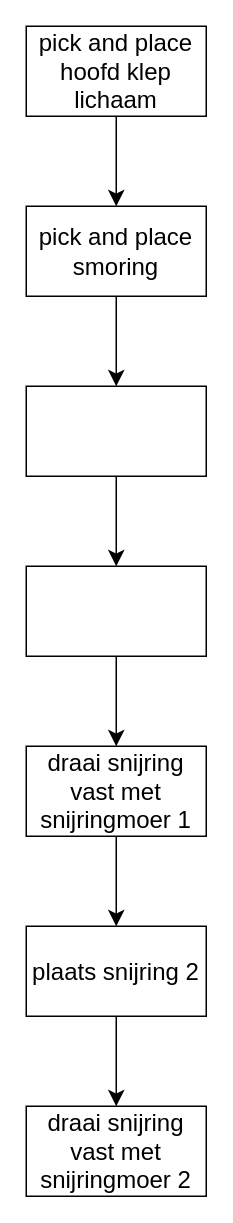
The diagram is 233 pixels wide and 1223 high, and some of its shapes have lost their labels. Here are the shapes that lost their labels. From the top down, the centre of each, then its label:
At [115,430]: "draai smoring vast met moer".
At [115,610]: "plaats snijring 1".
